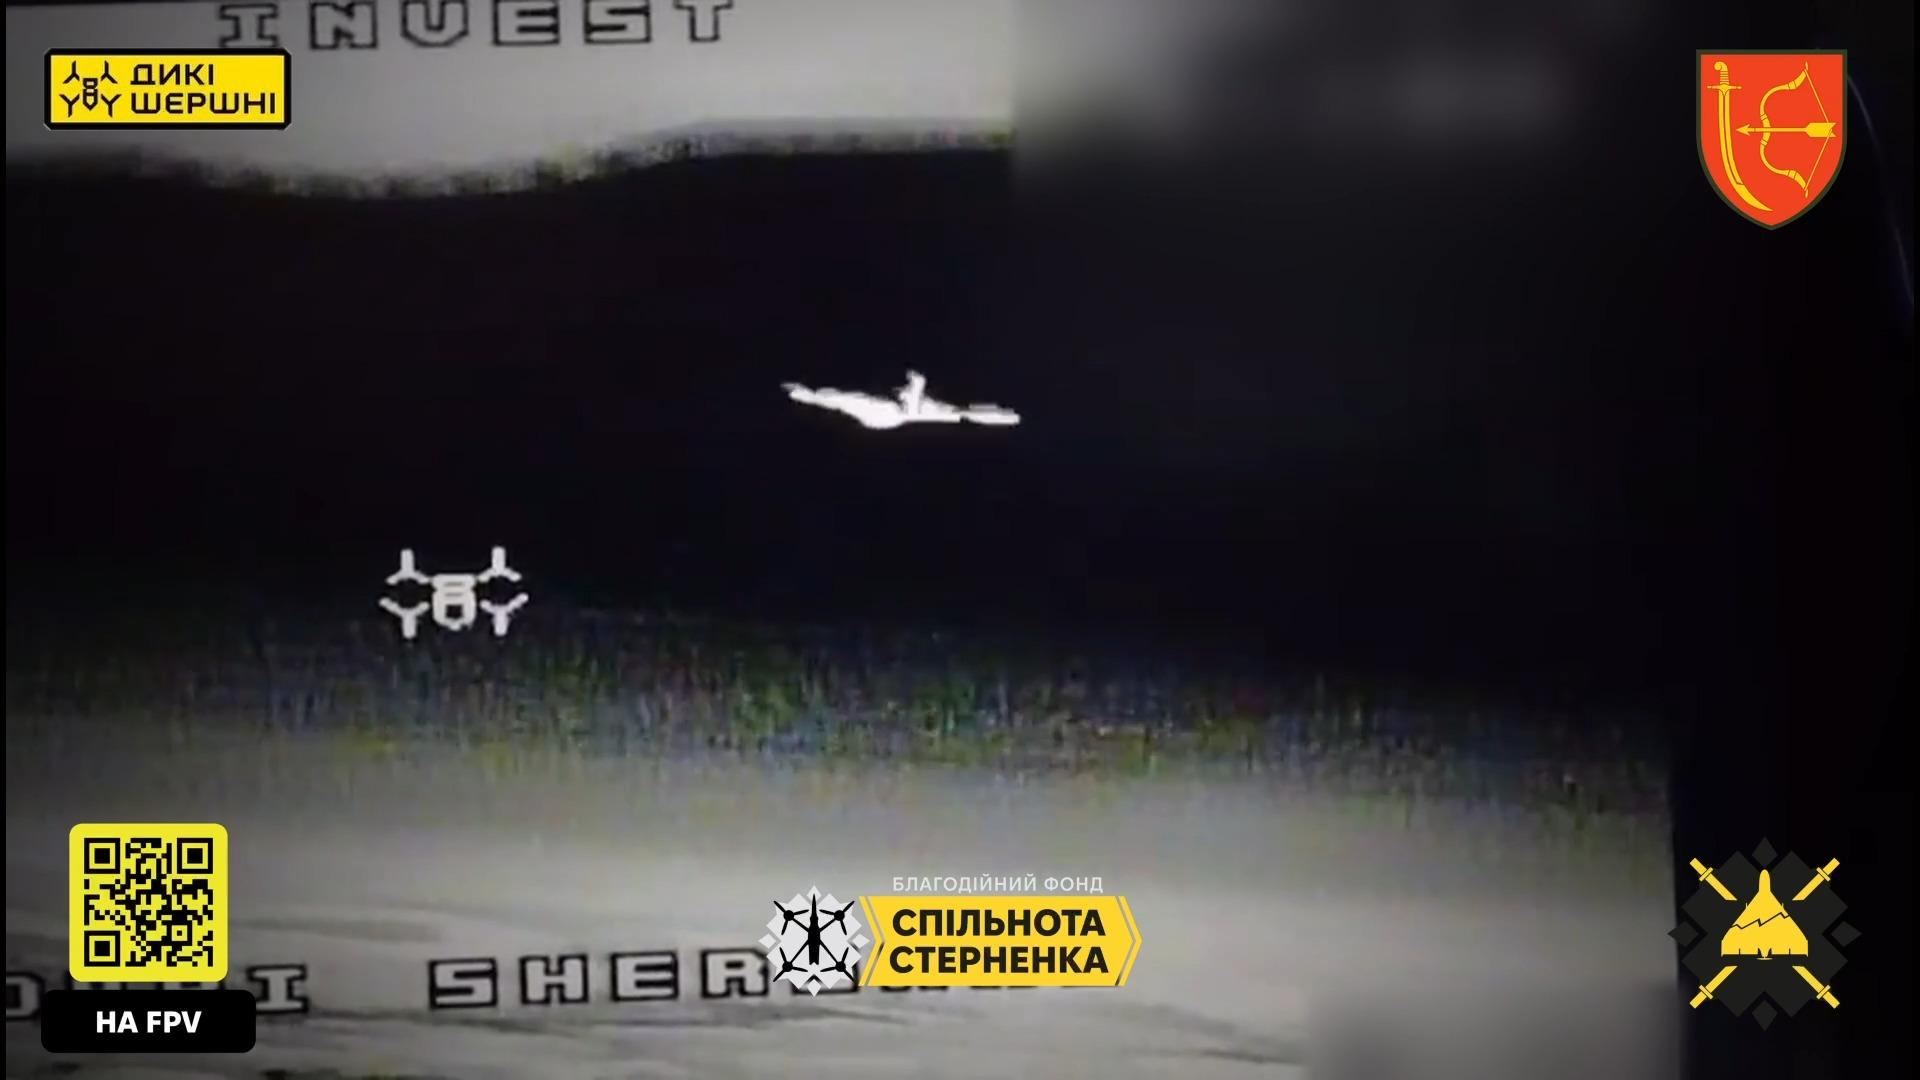Gerbera: (779, 367, 1025, 431)
